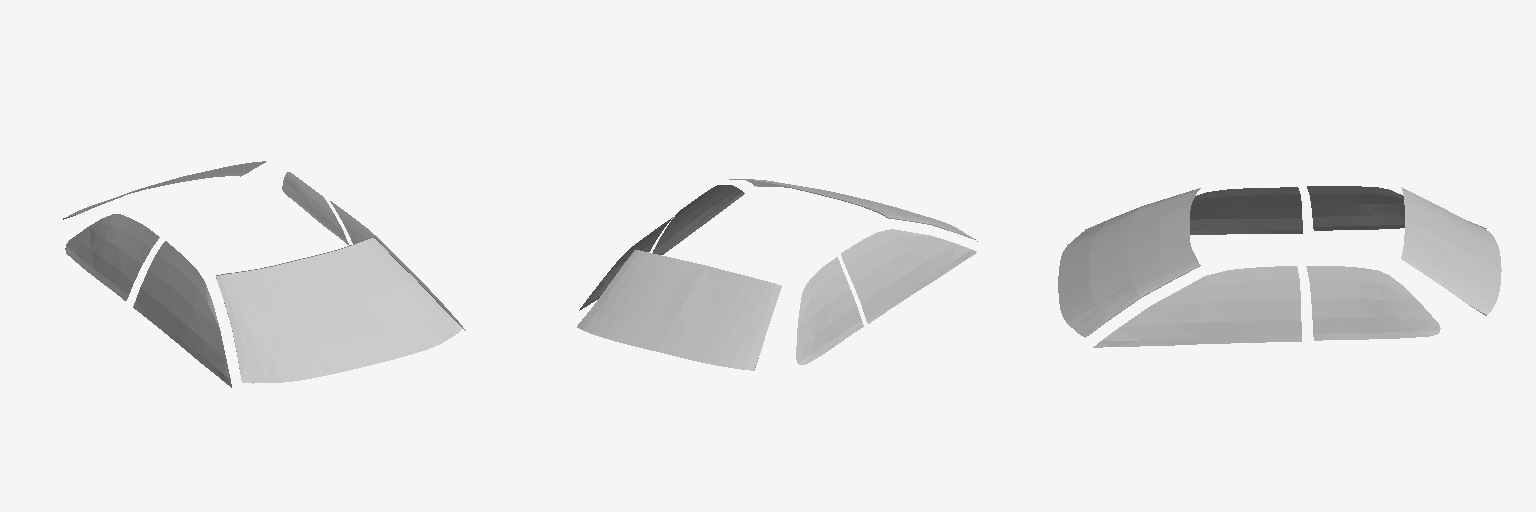
Rendered from impreza_okna.obj.
3 renders of one model, left to right at view 1: azimuth 30°, elevation 25°; view 2: azimuth 150°, elevation 25°; view 3: azimuth 270°, elevation 25°, orthographic.
Visible parts, largest first — view 1: Szyby, okno_R_Szyba_R, okno_L_Szyba_L; view 2: Szyby, okno_R_Szyba_R, okno_L_Szyba_L; view 3: Szyby, okno_L_Szyba_L, okno_R_Szyba_R.
Boxes of the visible parts, <box> form: Szyby: <box>63,161,463,383</box>; okno_R_Szyba_R: <box>133,241,231,387</box>; okno_L_Szyba_L: <box>330,201,465,330</box>; Szyby: <box>577,179,977,370</box>; okno_R_Szyba_R: <box>841,229,976,323</box>; okno_L_Szyba_L: <box>653,185,744,254</box>; Szyby: <box>1058,186,1501,340</box>; okno_L_Szyba_L: <box>1093,266,1301,347</box>; okno_R_Szyba_R: <box>1190,187,1302,234</box>.
Bounding box in the file's own units: 1.89 × 0.5615 × 3.11.